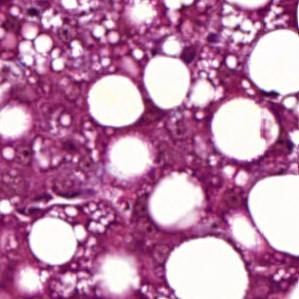steatosis: (82, 75, 141, 129), (142, 55, 193, 112)
